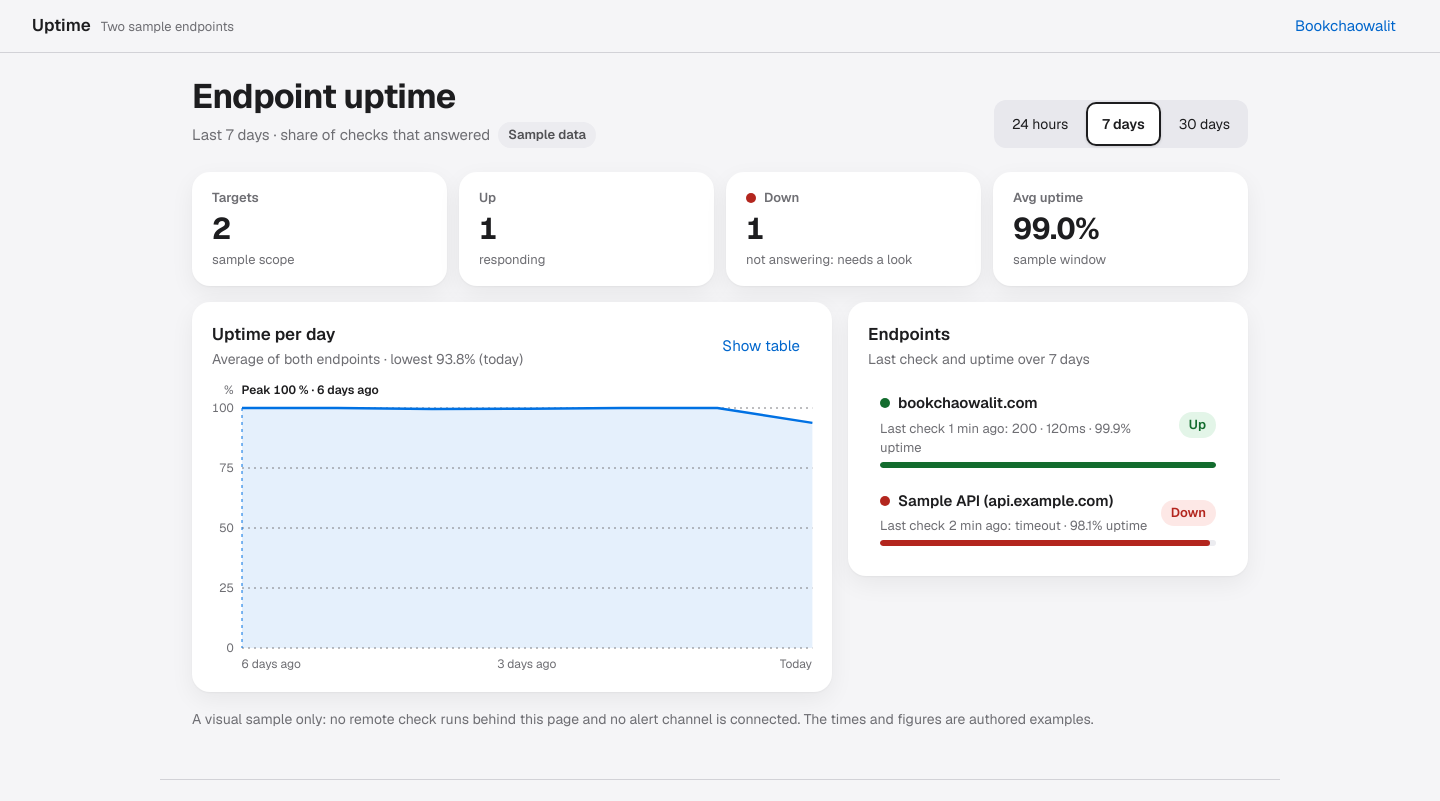
Test case: uptime page › charts the average uptime per day beside the endpoints, with a table of every value
Expected: the heading "Endpoints" is shown, x1=868 y1=323 x2=950 y2=345
Expected: the heading "Uptime per day" is shown, x1=212 y1=323 x2=335 y2=345
Click the button "24 hours" at (1040, 124), box x1=996 y1=102 x2=1084 y2=146
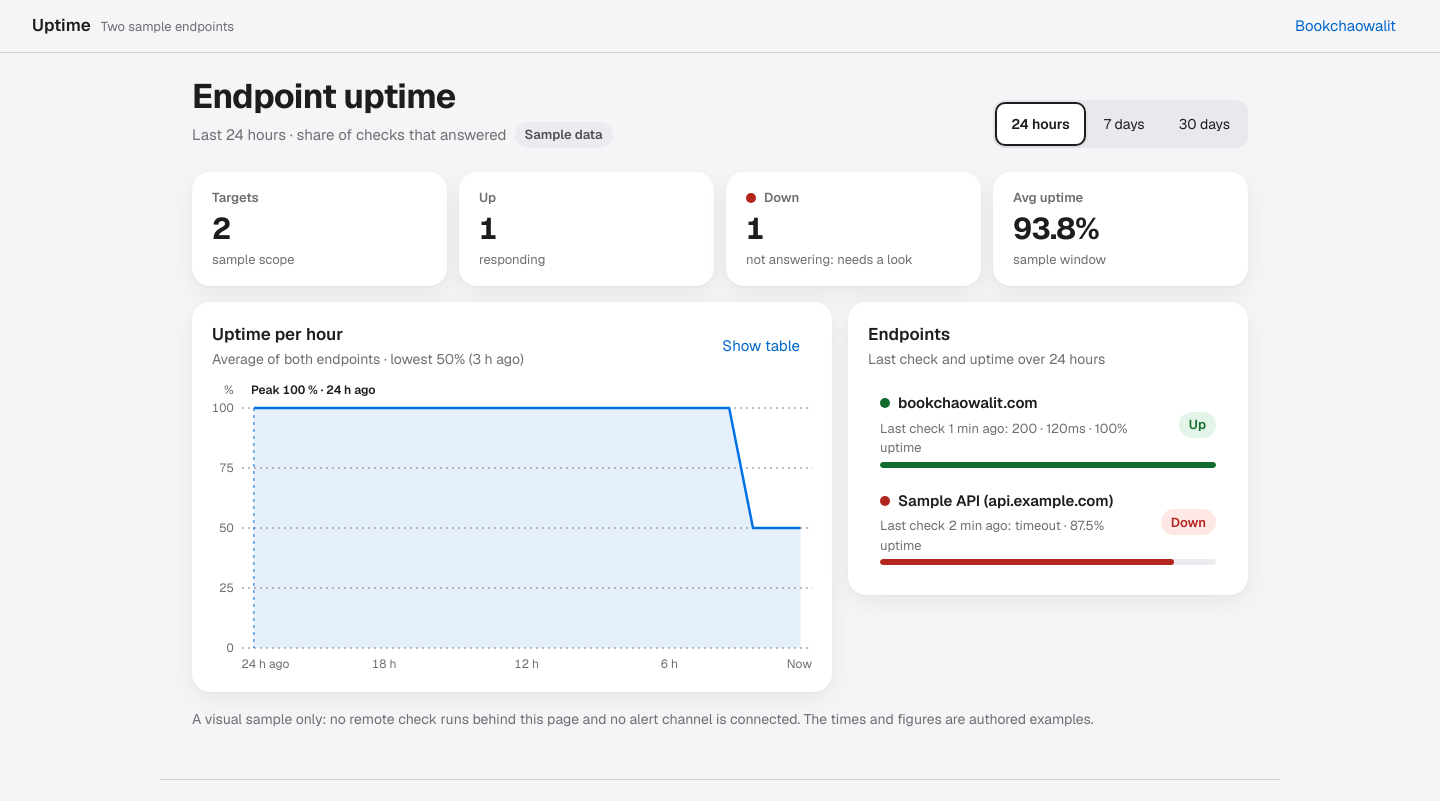
Expected: the heading "Uptime per hour" is shown, x1=212 y1=323 x2=343 y2=345
Expected: the text "Average of both endpoints · lowest 50% (3 h ago)" is shown, x1=212 y1=349 x2=524 y2=370
